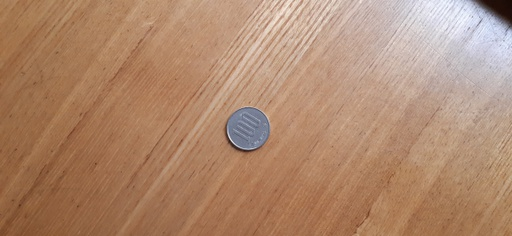100yen: (226, 107, 269, 150)
